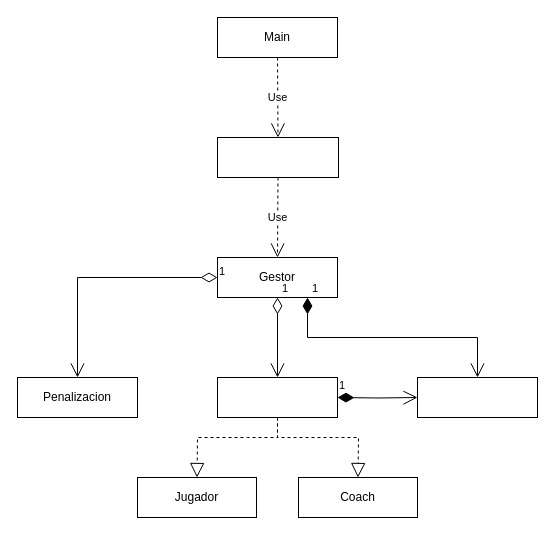
This 555x535 diagram has some shape labels left out. The centre of each missing label's shape, as x and y in pixels:
Equipo: point 477,397
Menu: point 277,157
Person: point 277,397
